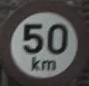Speed limit: (5, 5, 79, 78)
